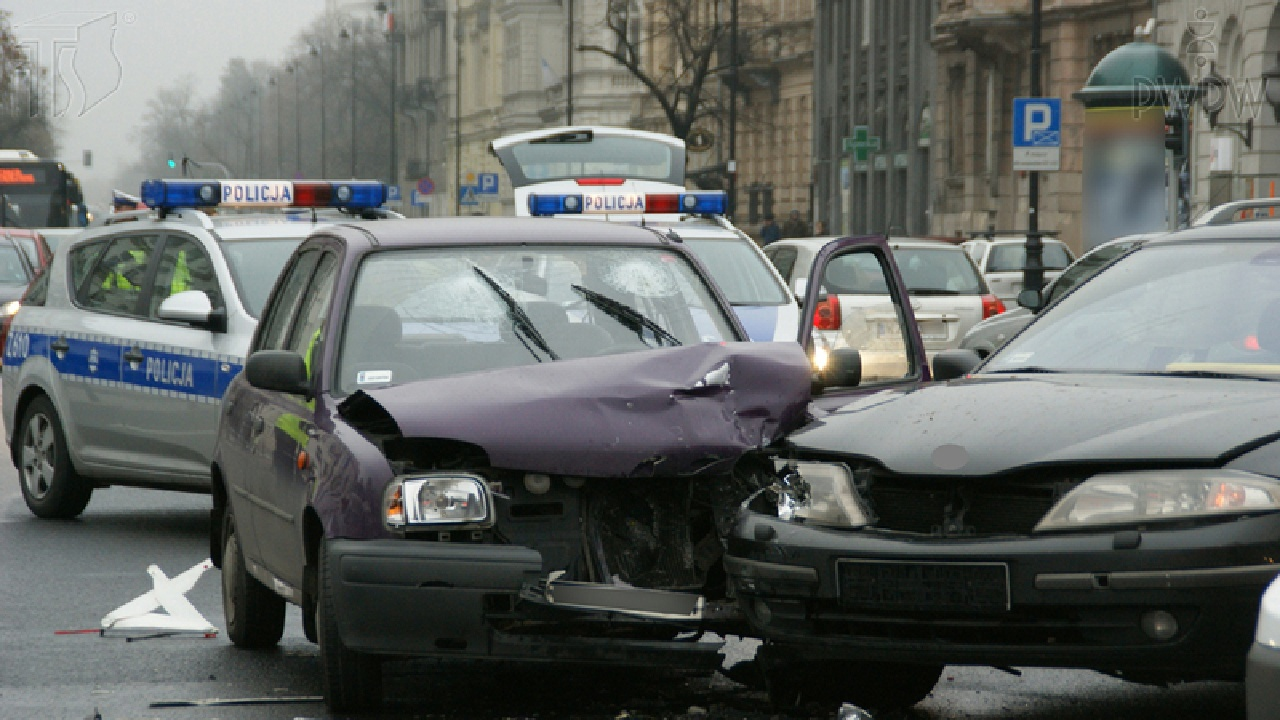D18: (1012, 98, 1060, 145)
